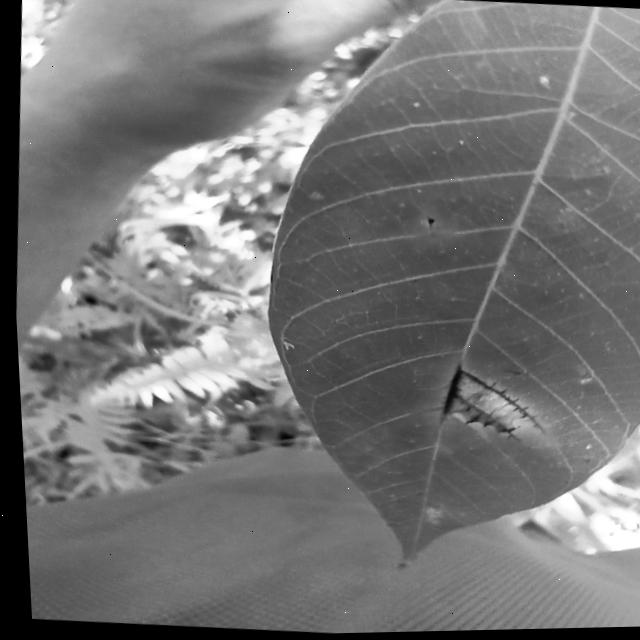Corynespora: (432, 362, 544, 444)
Leaf-Blight: (450, 376, 519, 431)
